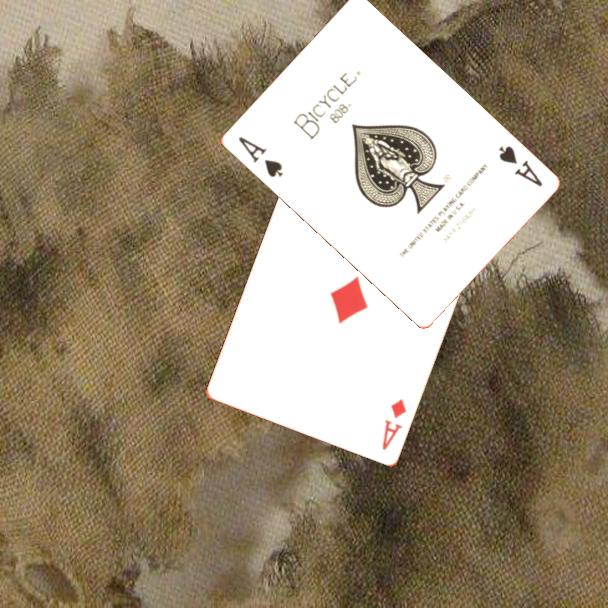d01: (379, 395, 410, 453)
s01: (494, 142, 545, 190), (234, 133, 285, 180)
